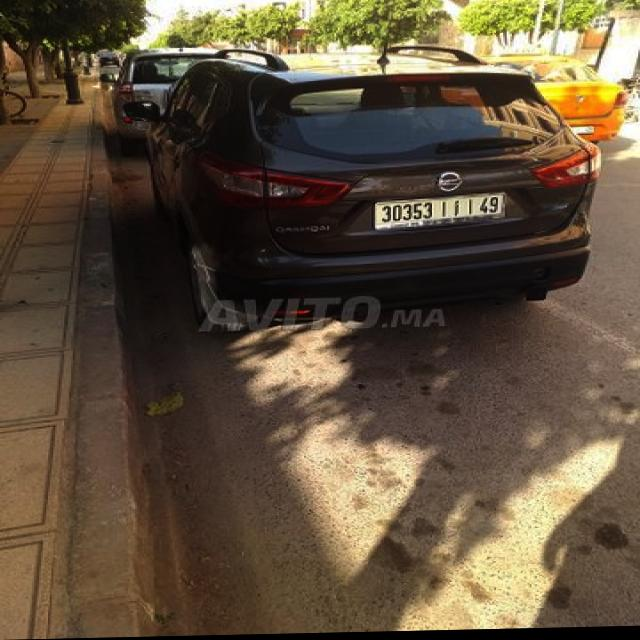License-Plate: (377, 197, 503, 223)
